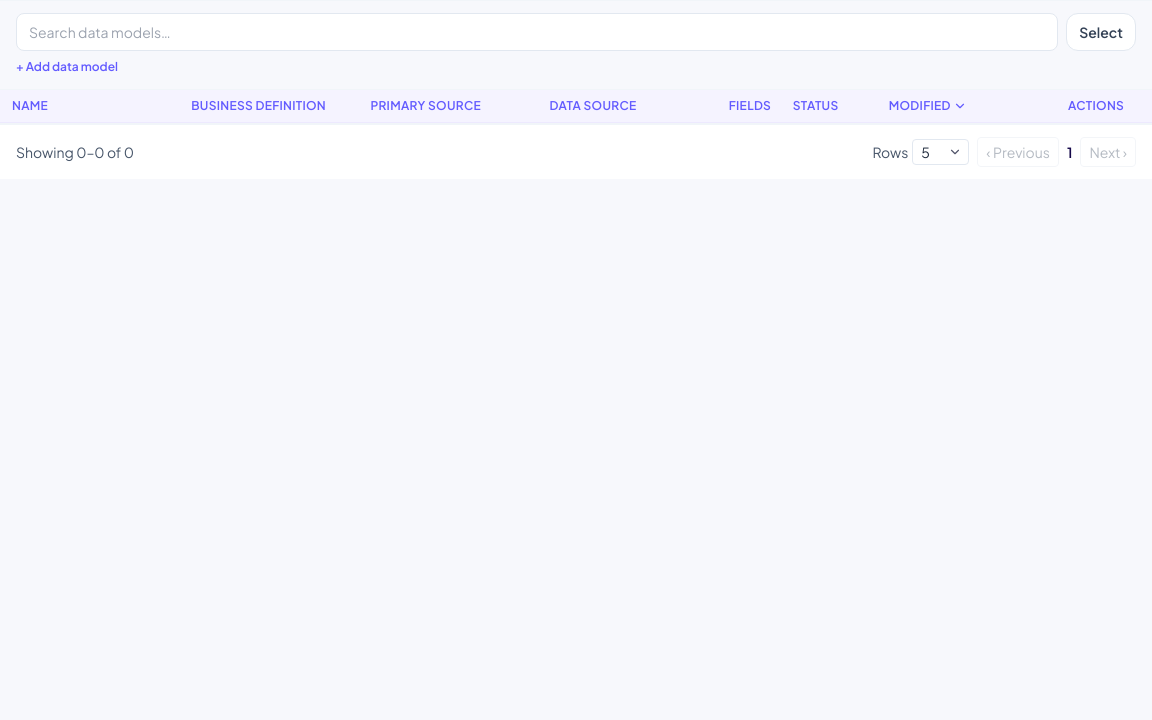
SEM-2A authoring core › SEM-2A-005 Add Data Model drawer
Click the button "+ Add data model".
click(67, 67)  # box [16,59,118,75]
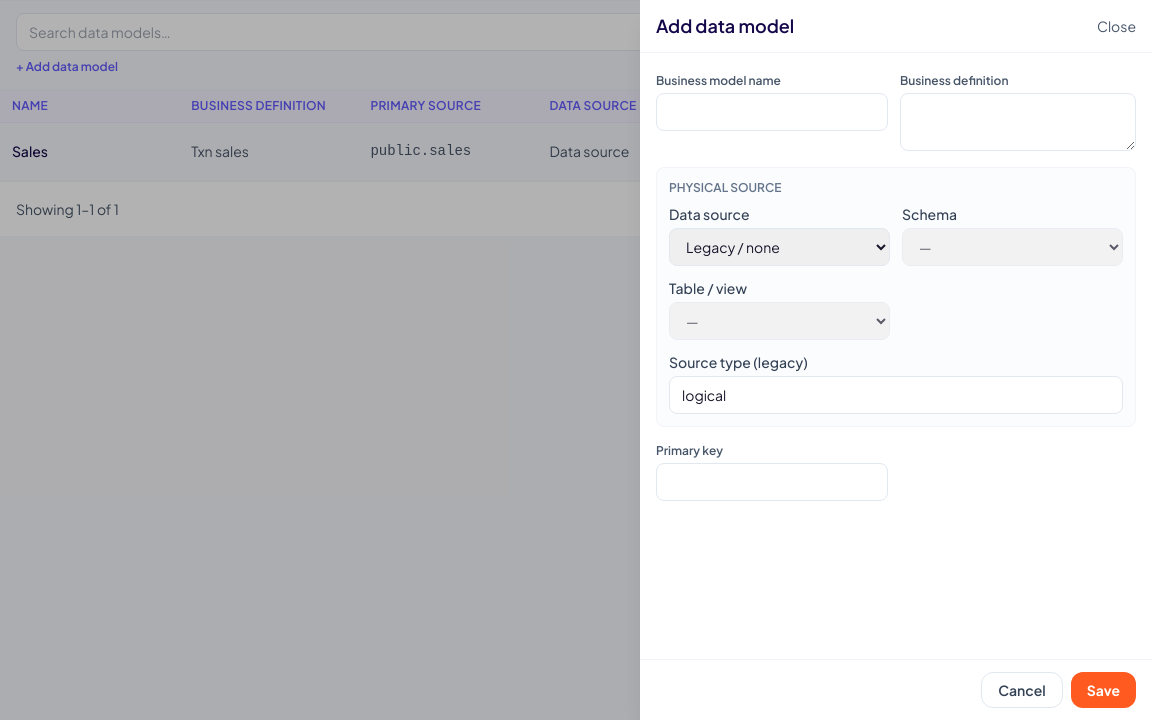
Check: the heading "Add data model" is shown, box [656,12,794,40]
